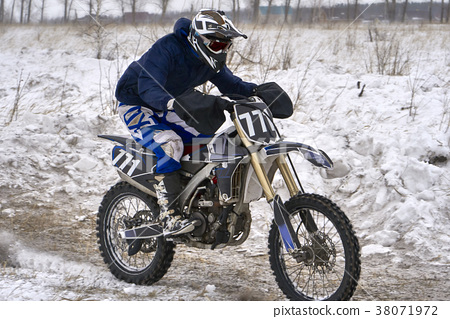helmet: (186, 8, 248, 74)
